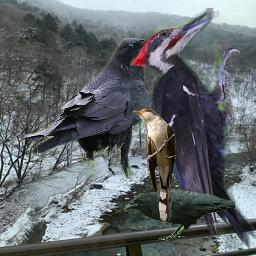Crow: (22, 38, 167, 179), (123, 189, 235, 241)
Cuckoo: (133, 108, 176, 224)
Woodpecker: (130, 8, 256, 249)
